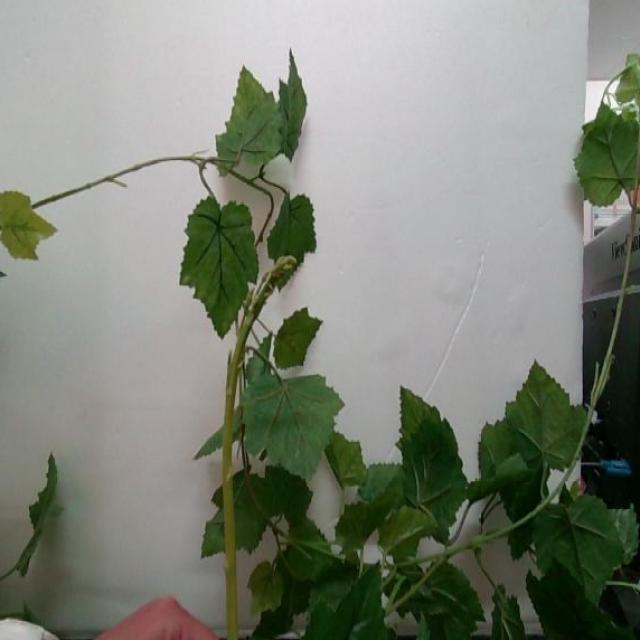aspargus: (221, 255, 298, 640)
